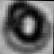correct: (1, 3, 54, 53)
